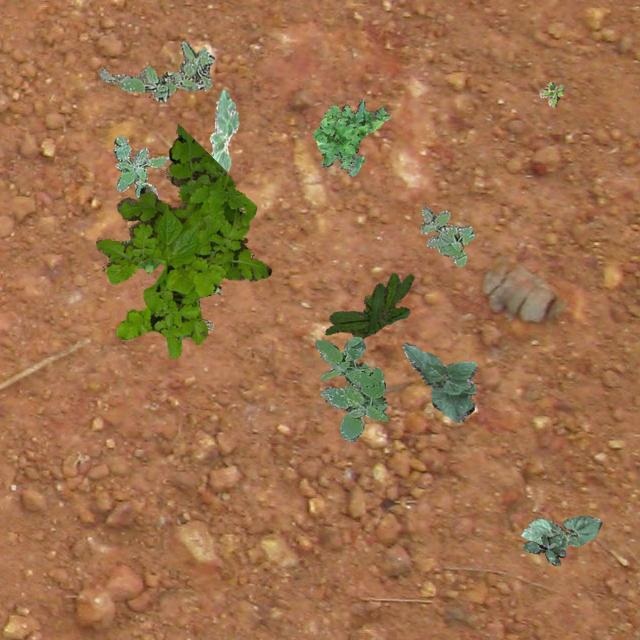crop: (402, 342, 476, 421), (520, 514, 600, 548), (208, 88, 238, 172)
weed: (94, 124, 270, 358), (314, 336, 386, 440), (98, 40, 214, 101), (135, 258, 221, 330), (312, 98, 390, 176), (324, 272, 412, 338), (112, 134, 168, 198), (419, 206, 474, 266), (522, 532, 564, 564), (538, 80, 562, 106)
